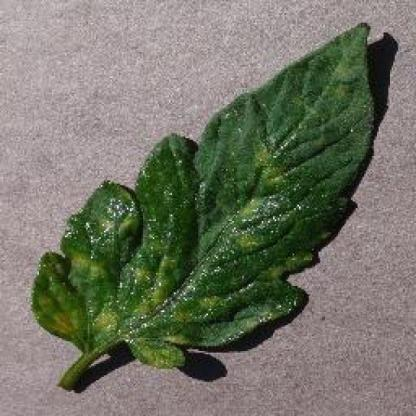Tomato_Leaf_Mold: (32, 22, 375, 368)
